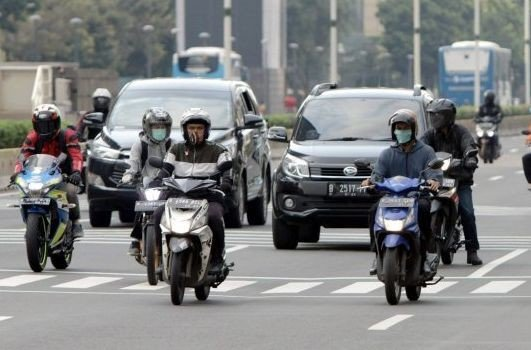plate: (327, 184, 366, 196), (167, 200, 199, 210), (136, 202, 163, 213), (382, 199, 411, 208), (434, 178, 453, 189), (20, 198, 49, 205)
